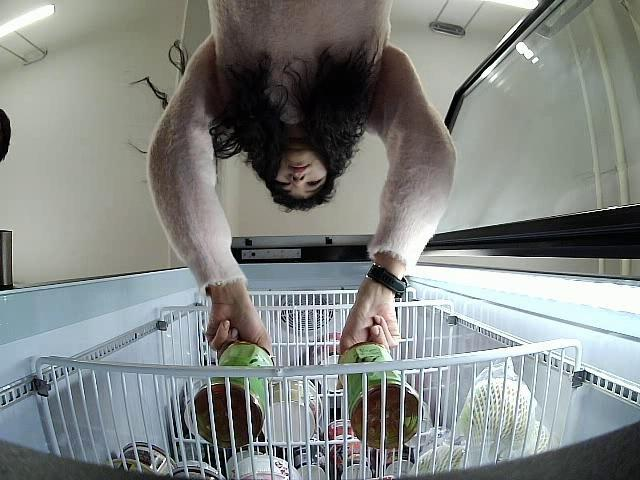19_17cha: (338, 342, 420, 447), (197, 339, 270, 448)
